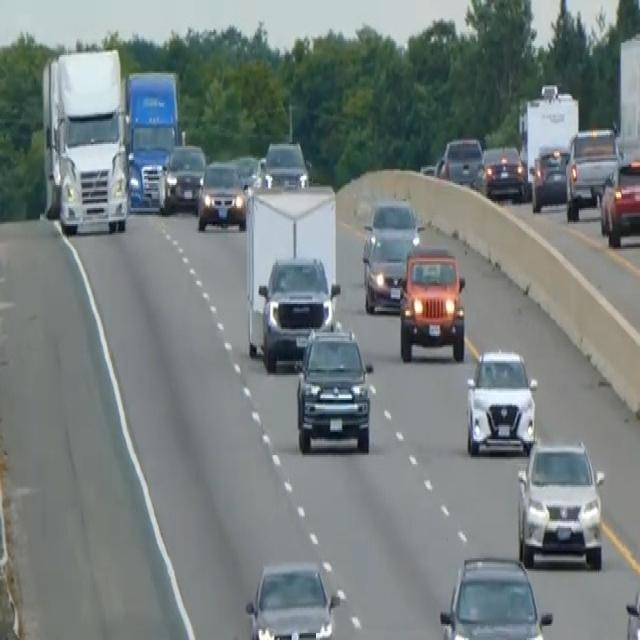car: (515, 437, 605, 571), (438, 553, 553, 638), (257, 252, 338, 370), (465, 345, 538, 457), (398, 244, 466, 362), (244, 558, 337, 638), (361, 196, 421, 314), (564, 124, 621, 218), (598, 151, 639, 247), (196, 158, 246, 231), (158, 140, 206, 212), (530, 142, 570, 212), (481, 142, 526, 201), (261, 137, 309, 190), (438, 135, 483, 189), (365, 196, 418, 238), (232, 151, 262, 192)
jeep: (293, 324, 374, 455)
lorry: (40, 46, 129, 235), (123, 66, 182, 212)
